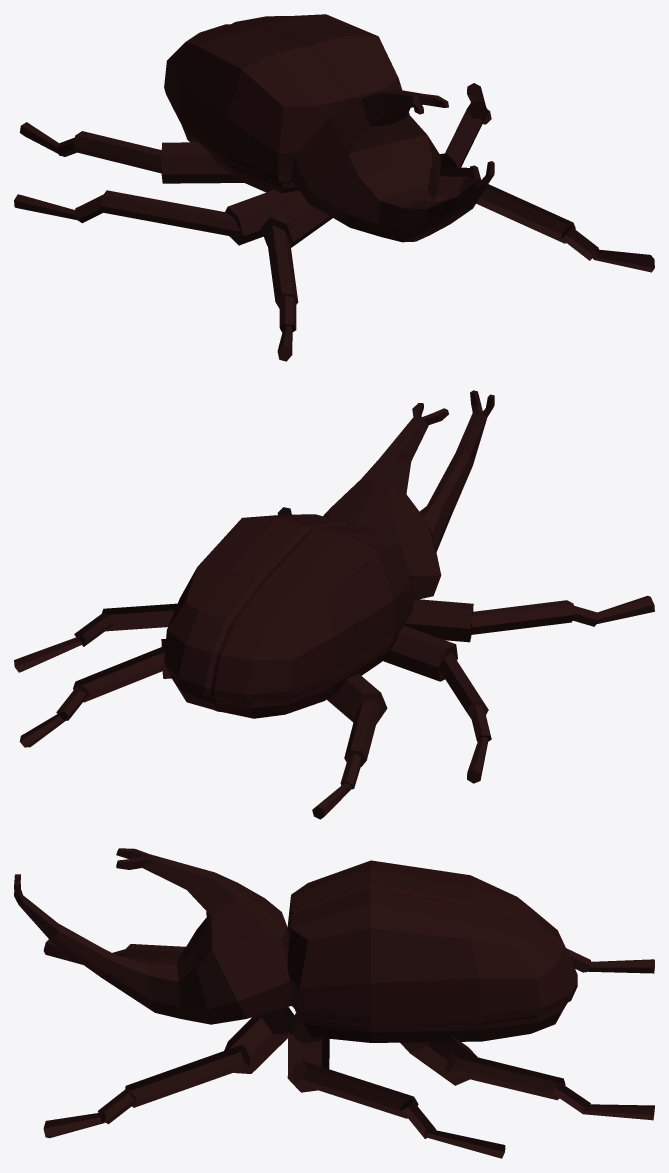
The model's file is low_poly_rhinoceros_beetle.glb.
The picture shows the model from 3 angles, top to bottom: view 1: azimuth 30°, elevation 25°; view 2: azimuth 150°, elevation 25°; view 3: azimuth 270°, elevation 25°; orthographic projection. The views are drawn at different scales.
Visible parts, largest first — view 1: body_Baked, leg.001_Baked, head_Baked; view 2: body_Baked, leg.001_Baked, head_Baked; view 3: body_Baked, leg.001_Baked, head_Baked.
Boxes of the visible parts, left/top/right/bottom form: body_Baked: left=164, top=14, right=409, bottom=193; leg.001_Baked: left=14, top=83, right=654, bottom=361; head_Baked: left=290, top=89, right=494, bottom=242; body_Baked: left=164, top=514, right=413, bottom=718; leg.001_Baked: left=14, top=507, right=654, bottom=819; head_Baked: left=323, top=390, right=494, bottom=600; body_Baked: left=287, top=860, right=577, bottom=1042; leg.001_Baked: left=43, top=939, right=654, bottom=1158; head_Baked: left=14, top=848, right=293, bottom=1024.
Size of the model in its own units: 1127 by 433 by 1308.
